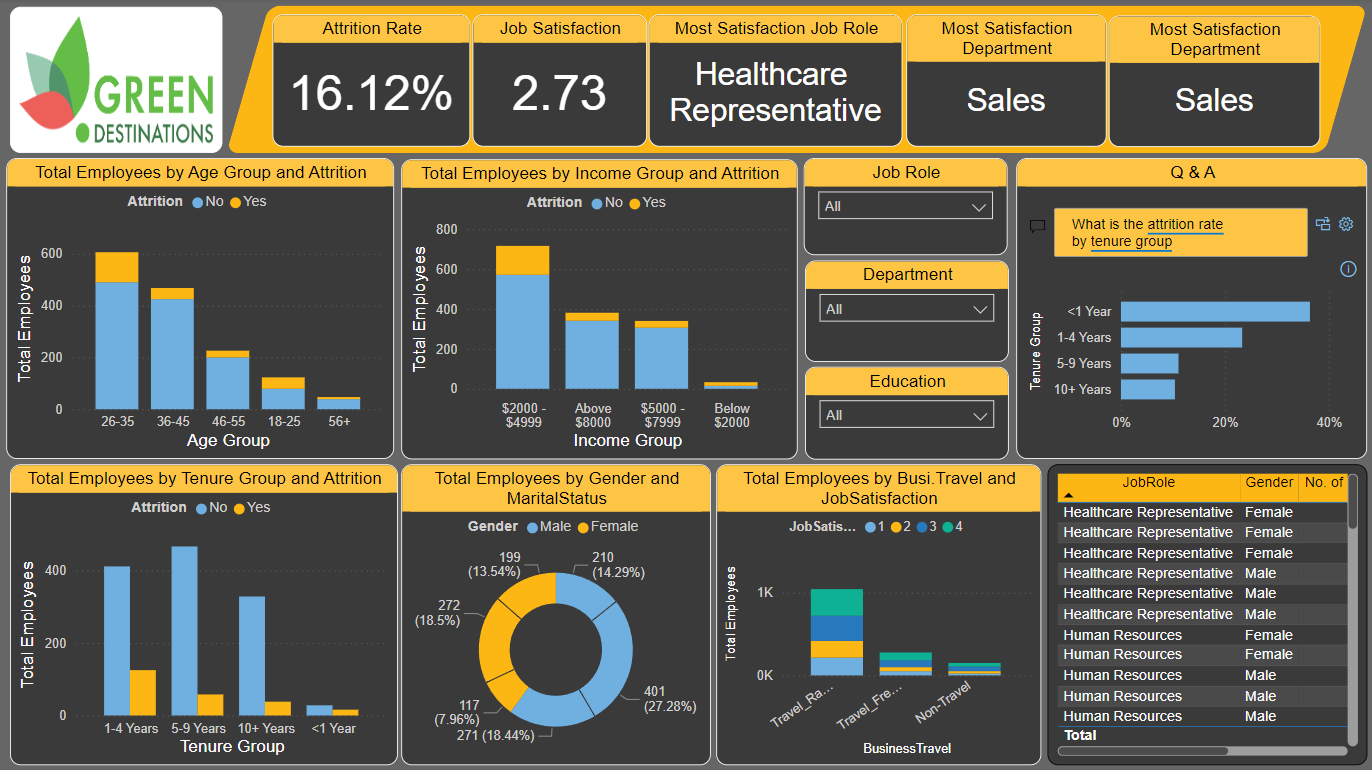

What the dashboard file says about the page in this screenshot:
{"tool":"powerbi","page":{"name":"Page 1","canvas":[1280,720],"ordinal":0},"visuals":[{"type":"shape","box":[210.5,7,1061.6,137.2],"z":0},{"type":"card","title":"Attrition Rate","fields":{"Values":["greendestination.Attrition Rate"]},"box":[253.5,15.1,184,123.3],"z":1000},{"type":"columnChart","title":"Total Employees by Age Group and Attrition","fields":{"Category":["greendestination.Age Group"],"Series":["greendestination.Attrition"],"Y":["CountNonNull(greendestination.EmployeeNumber)"]},"box":[5.8,148.8,360.5,280.2],"z":2000},{"type":"clusteredColumnChart","title":"Total Employees by Tenure Group and Attrition","fields":{"Category":["greendestination.Tenure Group"],"Series":["greendestination.Attrition"],"Y":["CountNonNull(greendestination.EmployeeNumber)"]},"box":[9.3,433.7,360.5,280.2],"z":3000},{"type":"columnChart","title":"Total Employees by Income Group and Attrition","fields":{"Series":["greendestination.Attrition"],"Y":["CountNonNull(greendestination.EmployeeNumber)"],"Category":["greendestination.Income Group"]},"box":[373.3,150,368.6,279.1],"z":4000},{"type":"qnaVisual","title":"Q & A","box":[945.4,148.8,326.7,280.2],"z":5000},{"type":"slicer","title":"Job Role","fields":{"Values":["greendestination.JobRole"]},"box":[747.7,148.8,189.5,90],"z":6000},{"type":"slicer","title":"Department","fields":{"Values":["greendestination.Department"]},"box":[748.8,244.2,189.5,94],"z":7000},{"type":"slicer","title":"Education","fields":{"Values":["greendestination.EducationField"]},"box":[748.8,343,189.5,86],"z":8000},{"type":"image","box":[9.3,8.1,197.7,136],"z":9000},{"type":"donutChart","title":"Total Employees by Gender and MaritalStatus","fields":{"Category":["greendestination.Gender"],"Y":["CountNonNull(greendestination.EmployeeNumber)"],"Series":["greendestination.MaritalStatus"]},"box":[373.3,433.7,288,280.2],"z":10000},{"type":"columnChart","title":"Total Employees by Busi.Travel and JobSatisfaction","fields":{"Category":["greendestination.BusinessTravel"],"Y":["CountNonNull(greendestination.EmployeeNumber)"],"Series":["greendestination.JobSatisfaction"]},"box":[666.3,433.7,302,280.2],"z":11000},{"type":"tableEx","fields":{"Values":["greendestination.JobRole","greendestination.Gender","Count(greendestination.EmployeeNumber)","greendestination.BusinessTravel"]},"box":[974.4,433.7,297.7,280.2],"z":12000},{"type":"card","title":"Most Satisfaction Job Role","fields":{"Values":["greendestination.Max Satisfaction Job Role"]},"box":[603.5,15.1,236,123.3],"z":13000},{"type":"card","title":"Job Satisfaction","fields":{"Values":["greendestination.Average Job Satisfaction"]},"box":[439.5,15.1,162,123.3],"z":14000},{"type":"card","title":"Most Satisfaction Department","fields":{"Values":["greendestination.Max Satisfaction Department"]},"box":[843,15.1,186,123.3],"z":15000},{"type":"card","title":"Most Satisfaction Department","fields":{"Values":["greendestination.Max Satisfaction Department"]},"box":[1031.4,16.3,196.5,122.1],"z":16000}]}

Visuals, with their boxes in screenshot pixels (x1, y1, x2, y2), scaled from the page's 1280x720 canvas onto the 1372x770 screenshot:
shape: bbox=[226, 7, 1364, 154]
"Attrition Rate" card: bbox=[272, 16, 469, 148]
"Total Employees by Age Group and Attrition" columnChart: bbox=[6, 159, 393, 459]
"Total Employees by Tenure Group and Attrition" clusteredColumnChart: bbox=[10, 464, 396, 763]
"Total Employees by Income Group and Attrition" columnChart: bbox=[400, 160, 795, 459]
"Q & A" qnaVisual: bbox=[1013, 159, 1364, 459]
"Job Role" slicer: bbox=[801, 159, 1005, 255]
"Department" slicer: bbox=[803, 261, 1006, 362]
"Education" slicer: bbox=[803, 367, 1006, 459]
image: bbox=[10, 9, 222, 154]
"Total Employees by Gender and MaritalStatus" donutChart: bbox=[400, 464, 709, 763]
"Total Employees by Busi.Travel and JobSatisfaction" columnChart: bbox=[714, 464, 1038, 763]
tableEx - greendestination.JobRole x greendestination.Gender: bbox=[1044, 464, 1364, 763]
"Most Satisfaction Job Role" card: bbox=[647, 16, 900, 148]
"Job Satisfaction" card: bbox=[471, 16, 645, 148]
"Most Satisfaction Department" card: bbox=[904, 16, 1103, 148]
"Most Satisfaction Department" card: bbox=[1106, 17, 1316, 148]
